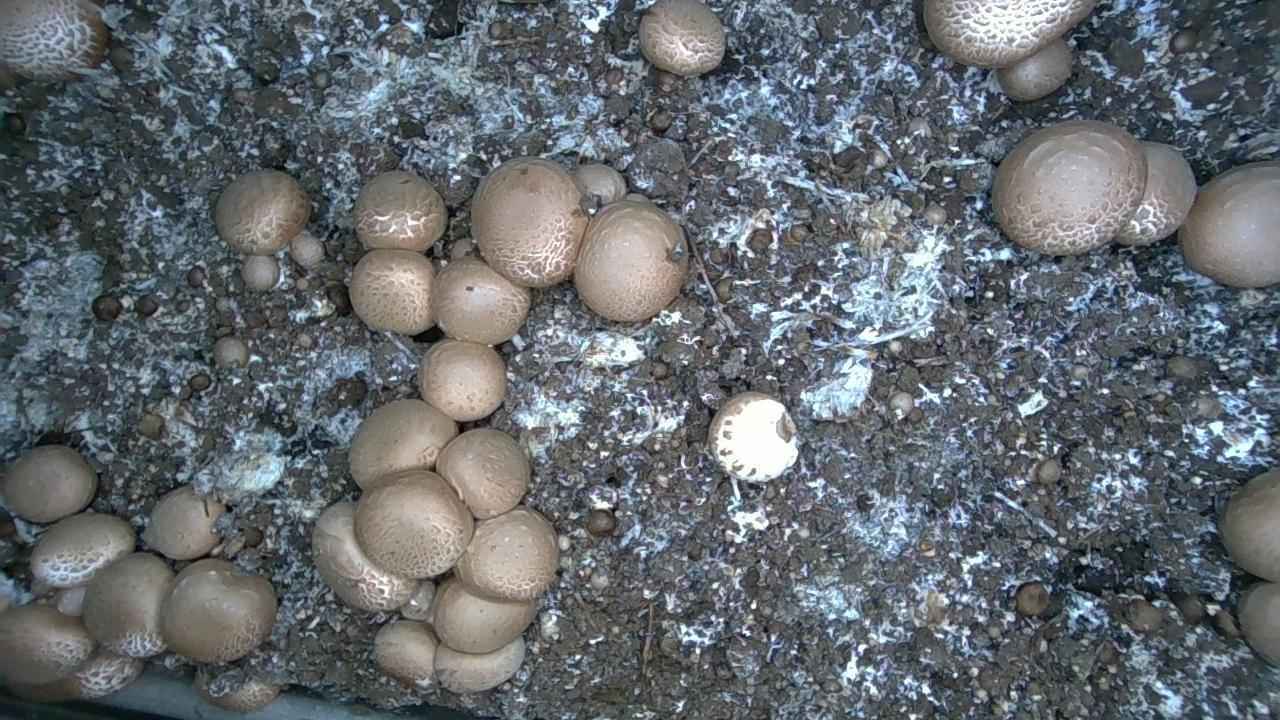BB: (992, 121, 1146, 254), (471, 157, 588, 287), (574, 195, 688, 321), (354, 470, 474, 578), (1178, 161, 1279, 287), (161, 559, 276, 662), (924, 0, 1095, 68), (312, 502, 416, 610), (455, 506, 558, 601), (349, 399, 457, 488), (83, 552, 174, 657), (436, 428, 529, 519), (432, 258, 530, 344), (1116, 142, 1196, 244), (215, 169, 310, 254), (30, 513, 135, 587), (433, 578, 535, 653), (354, 170, 447, 251), (0, 604, 94, 683), (350, 249, 435, 335), (418, 338, 506, 421), (3, 445, 97, 522), (8, 650, 142, 701), (639, 0, 725, 76), (1222, 470, 1280, 582), (145, 486, 225, 559), (434, 636, 524, 692), (996, 39, 1071, 101), (375, 619, 438, 687), (1238, 583, 1279, 666), (570, 164, 626, 208), (241, 255, 279, 292), (401, 580, 435, 620), (1124, 599, 1162, 634), (289, 231, 324, 268), (213, 336, 249, 368), (1016, 582, 1049, 616), (1166, 355, 1199, 381), (56, 586, 85, 615), (92, 294, 122, 321), (1169, 28, 1199, 54), (134, 294, 158, 316), (245, 311, 267, 328)
